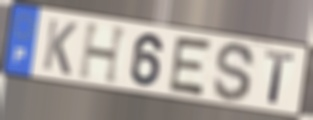6: (130, 31, 165, 88)
E: (166, 34, 216, 98)
H: (76, 21, 131, 86)
K: (40, 16, 79, 78)
S: (211, 40, 257, 104)
T: (263, 49, 297, 107)
